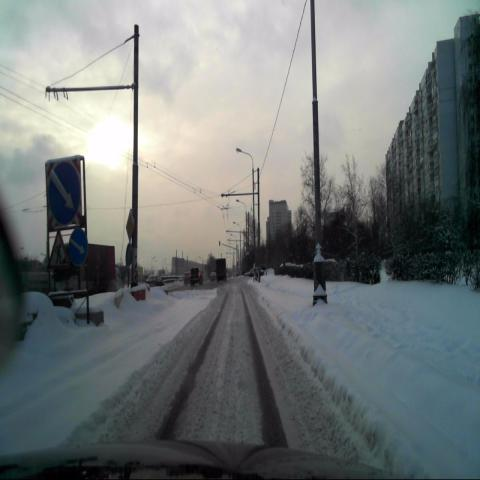4_2_1: (48, 160, 82, 227), (69, 229, 88, 266)
